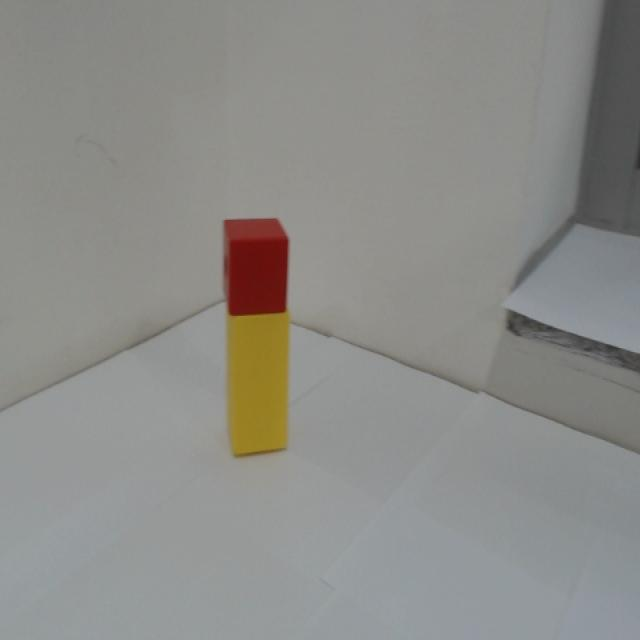cube: (218, 211, 294, 314)
